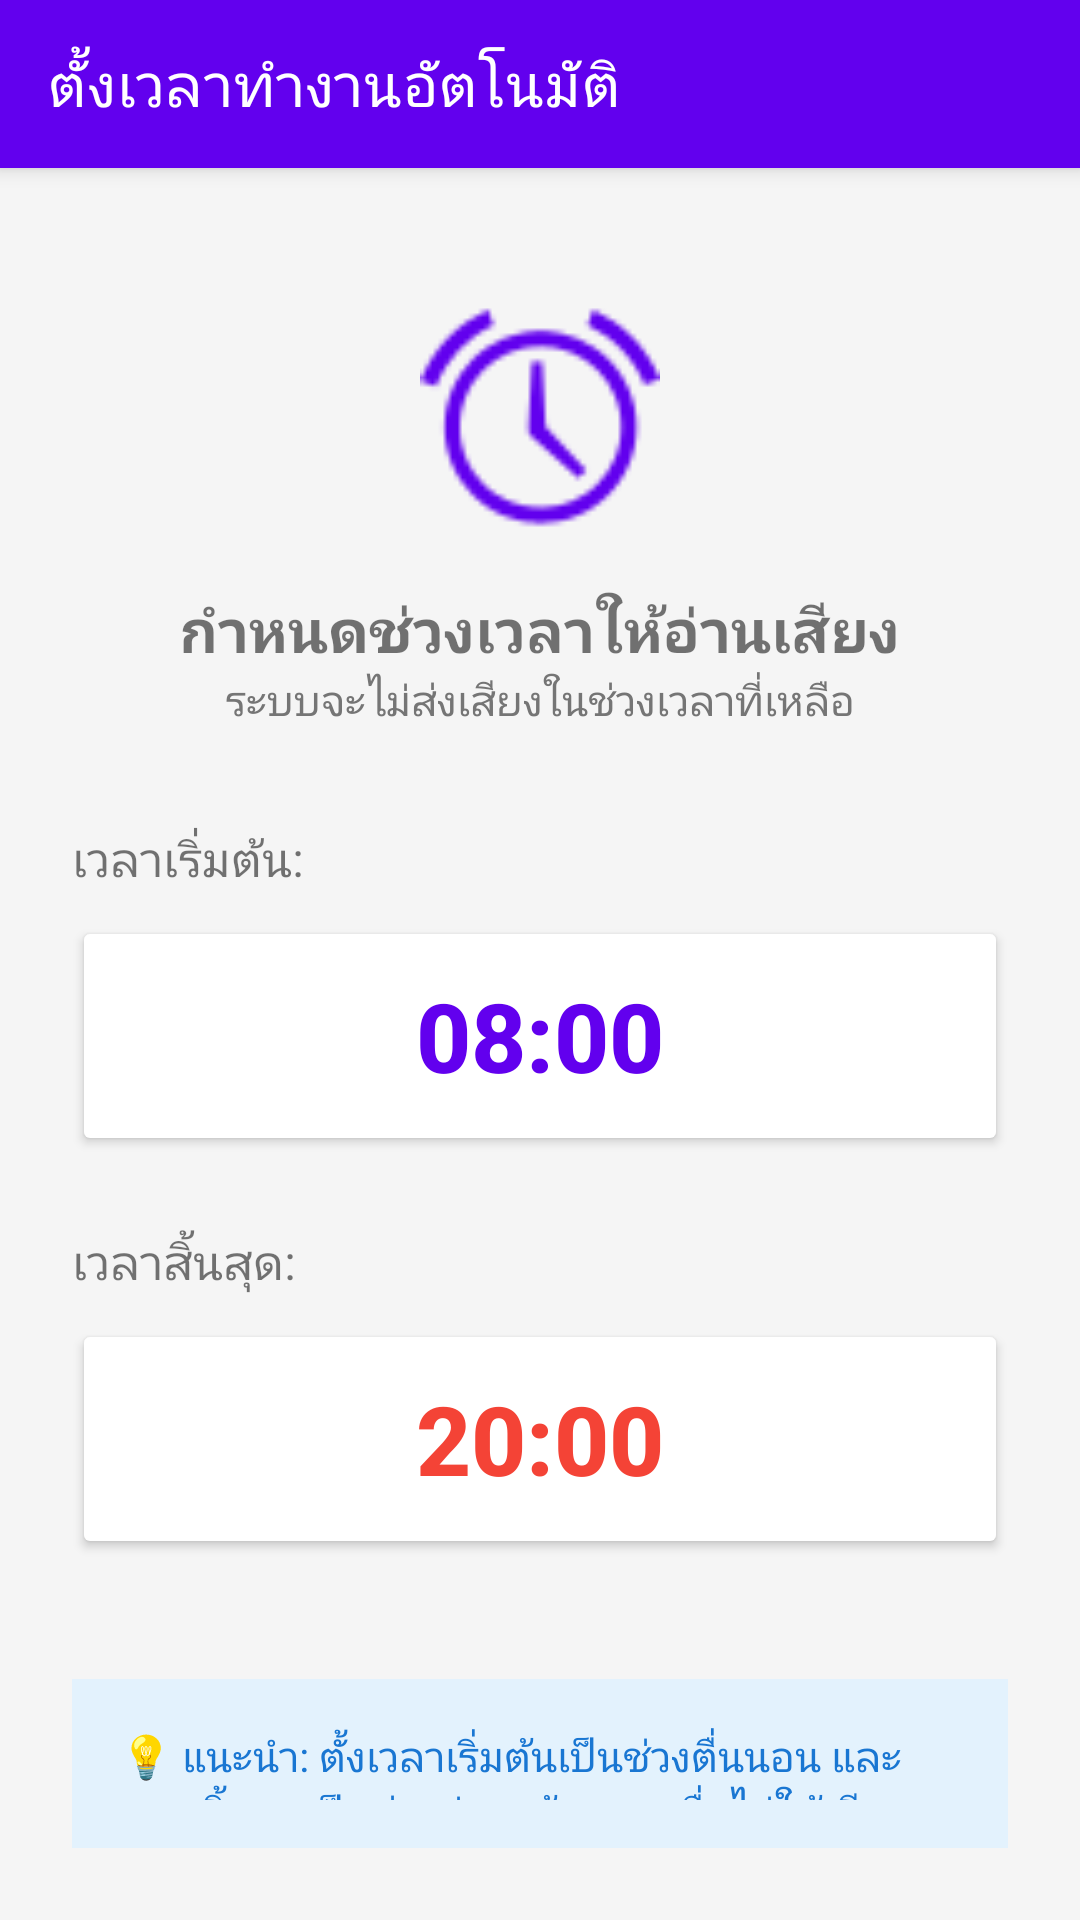

Icons on this 1080 x 1920 Android screen, each with the point to tap as (x,y):
lock idle alarm: (540,417)
